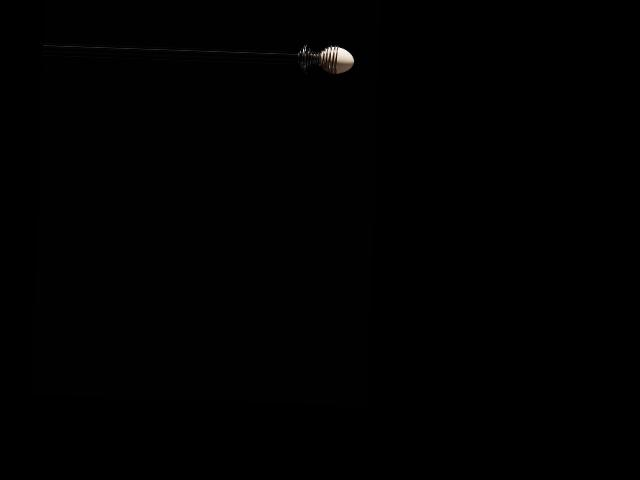egg: (319, 45, 354, 73)
